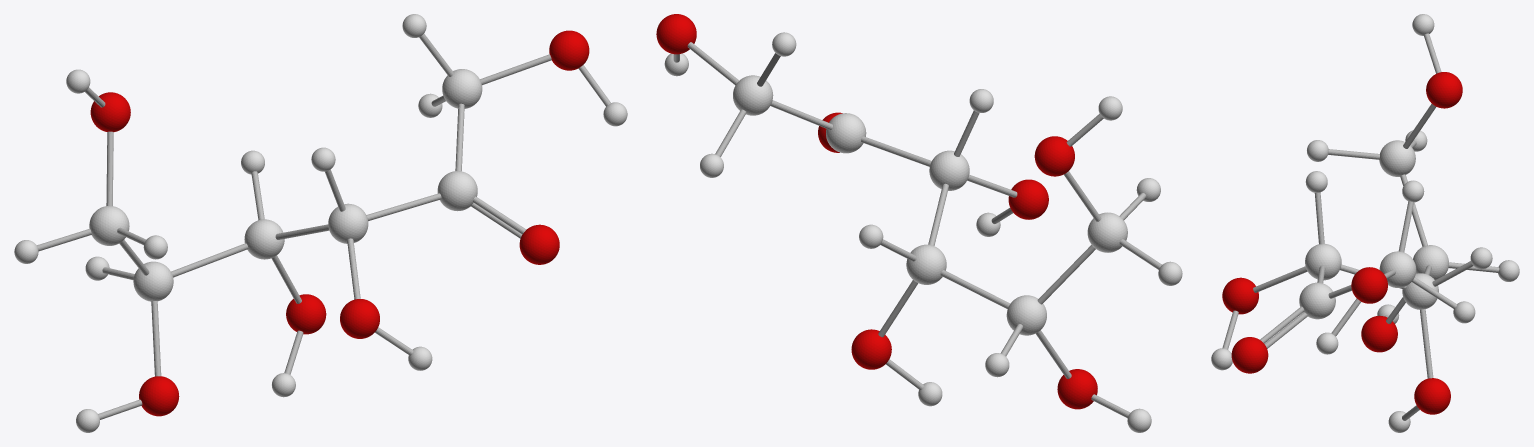
3 views of the same model, side by side, from view 1: azimuth 30°, elevation 25°; view 2: azimuth 150°, elevation 25°; view 3: azimuth 270°, elevation 25° (orthographic). The views are drawn at different scales.
Parts seen in each view (by area): view 1: world; view 2: world; view 3: world.
Boxes of the visible parts, x1,y1,x2,y2 form: world: (14, 14, 627, 432); world: (656, 14, 1182, 432); world: (1211, 14, 1519, 432).
Size of the model in its own units: 8.05 by 4.98 by 4.2.
